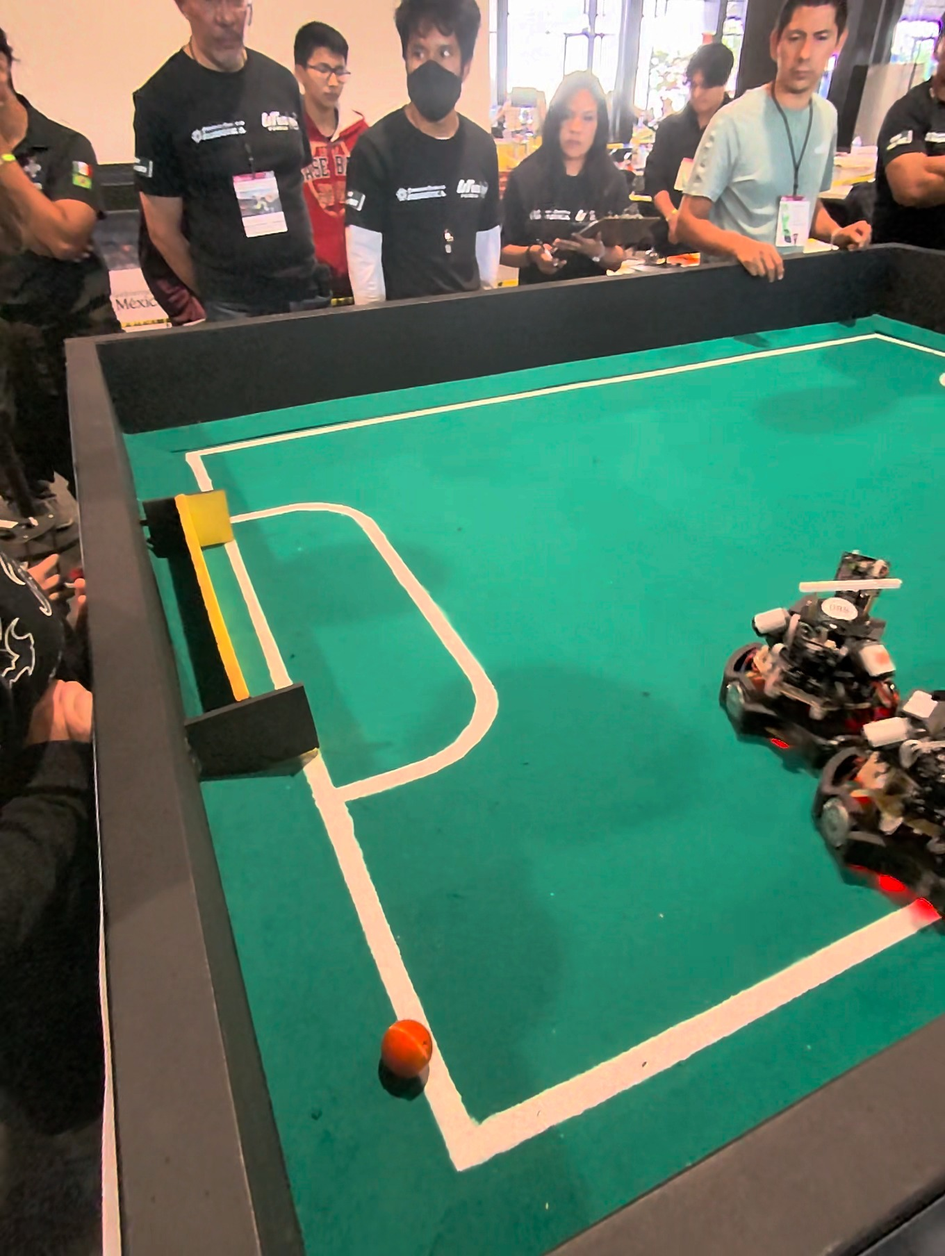Robot: (716, 544, 902, 778), (804, 681, 945, 916)
pelota: (380, 1022, 434, 1097)
